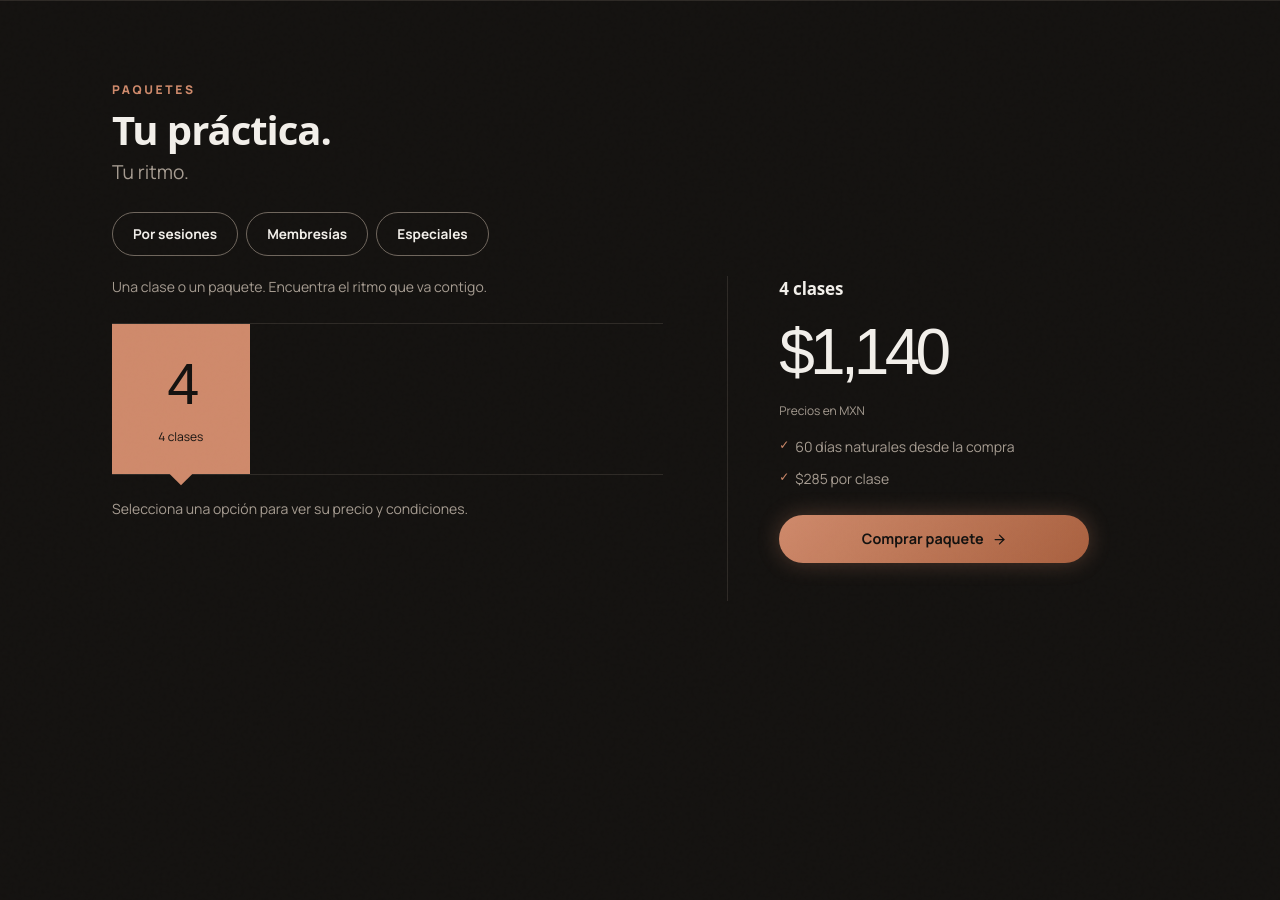
Test: categorías de planes HIVE › separa sesiones, membresías y especiales sin perder condiciones ni precios
The width and height of the screenshot is (1280, 900).
Expected: the list item "60 días naturales desde la compra" is shown, x1=795 y1=436 x2=1014 y2=456
Expected: the text "Plan anual" is not shown
Click the button "Membresías": (307, 234) x1=246 y1=212 x2=368 y2=256
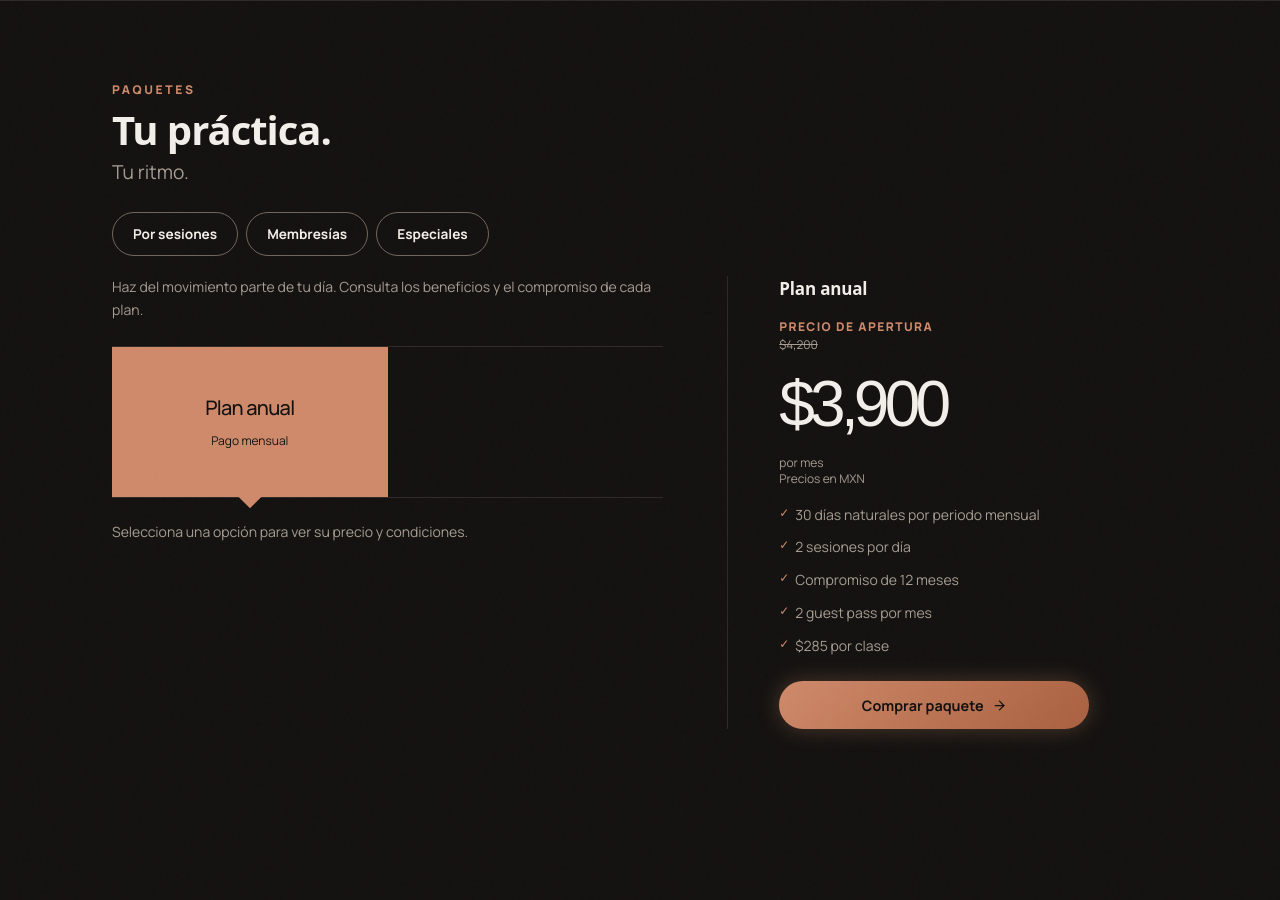
Now the list item "Compromiso de 12 meses" is shown, box x1=795 y1=570 x2=959 y2=589
Now the list item "2 guest pass por mes" is shown, box x1=795 y1=603 x2=932 y2=622
Now the text "$3,900" is shown, box x1=779 y1=368 x2=946 y2=440
Click the button "Especiales": (432, 234) x1=376 y1=212 x2=489 y2=256
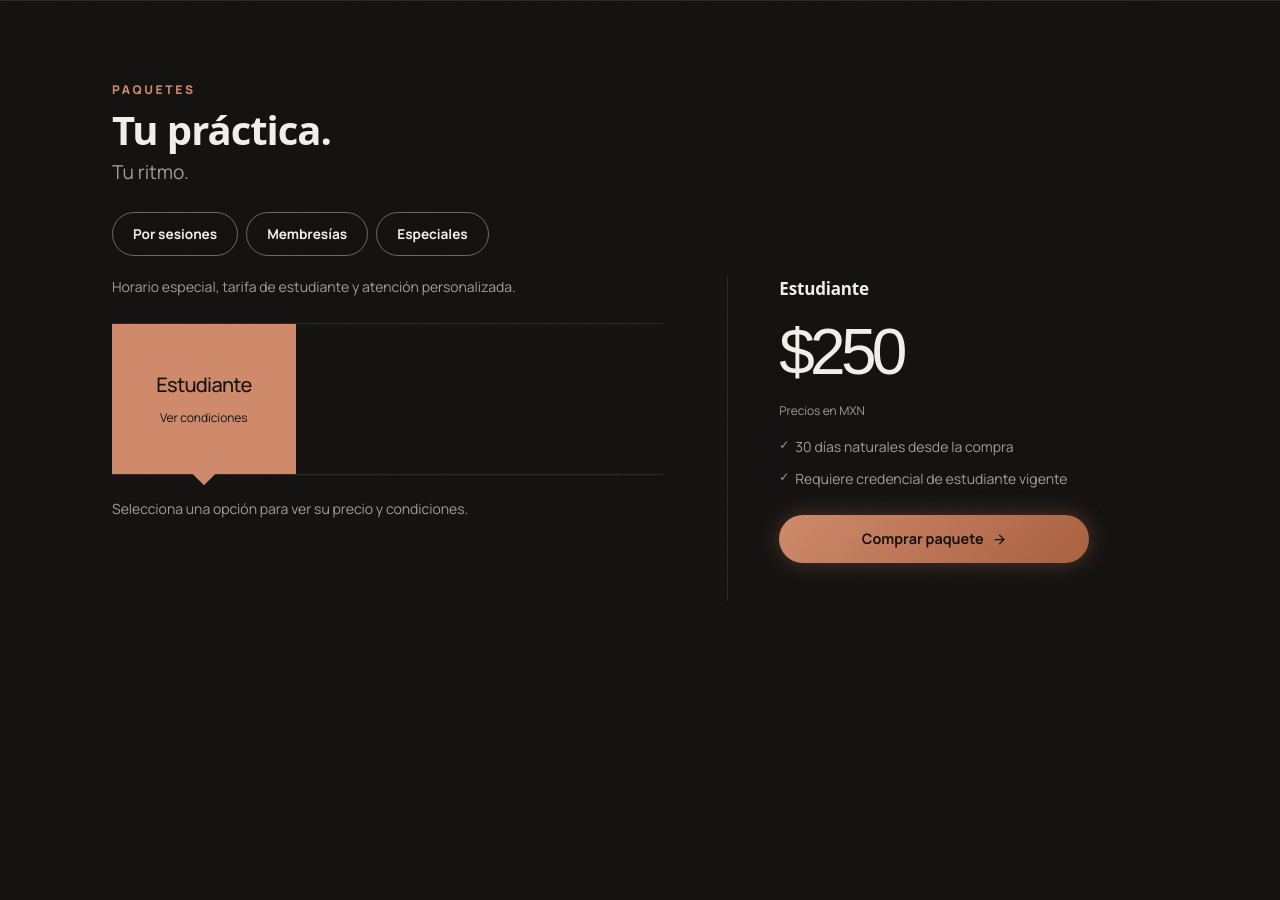
Now the list item "Requiere credencial de estudiante vigente" is shown, box x1=795 y1=469 x2=1068 y2=488
Now the button "Plan anual" is gone
